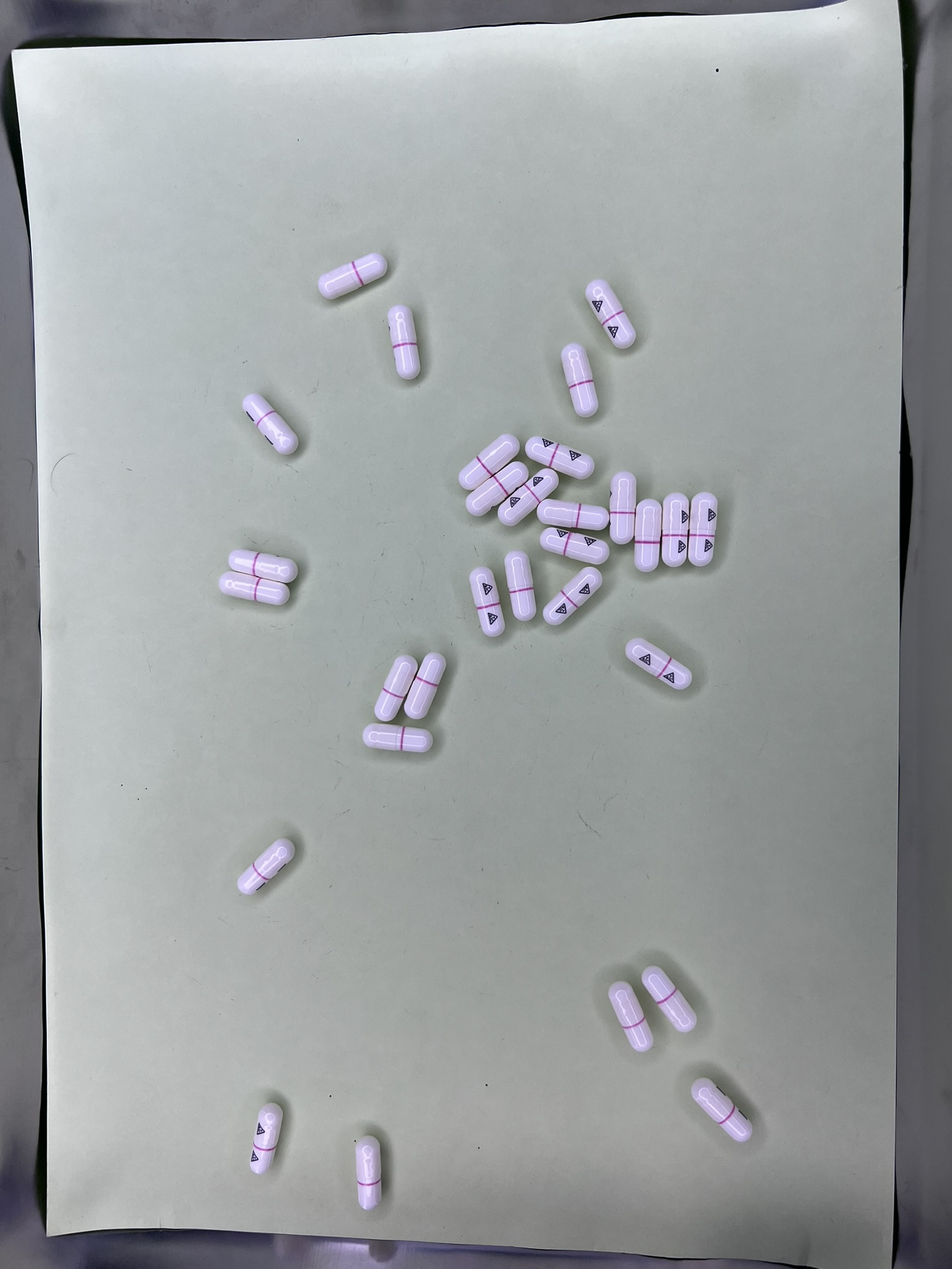Capsule: (691, 1077, 750, 1143), (643, 965, 698, 1034), (496, 468, 558, 528), (458, 433, 522, 490), (241, 394, 298, 457), (465, 461, 530, 516), (543, 568, 602, 628), (585, 279, 635, 349), (626, 638, 692, 691), (238, 837, 294, 896), (318, 253, 387, 300), (524, 438, 595, 482), (608, 981, 652, 1052), (374, 655, 418, 722), (403, 654, 446, 722), (561, 342, 599, 415), (540, 528, 608, 568), (248, 1102, 283, 1178), (219, 572, 290, 608), (536, 498, 609, 533), (389, 305, 422, 382), (470, 567, 505, 636), (688, 493, 719, 569), (230, 549, 297, 584), (505, 551, 537, 622), (362, 725, 433, 756), (355, 1138, 383, 1214), (609, 472, 637, 546), (662, 493, 689, 569), (634, 499, 661, 574)
